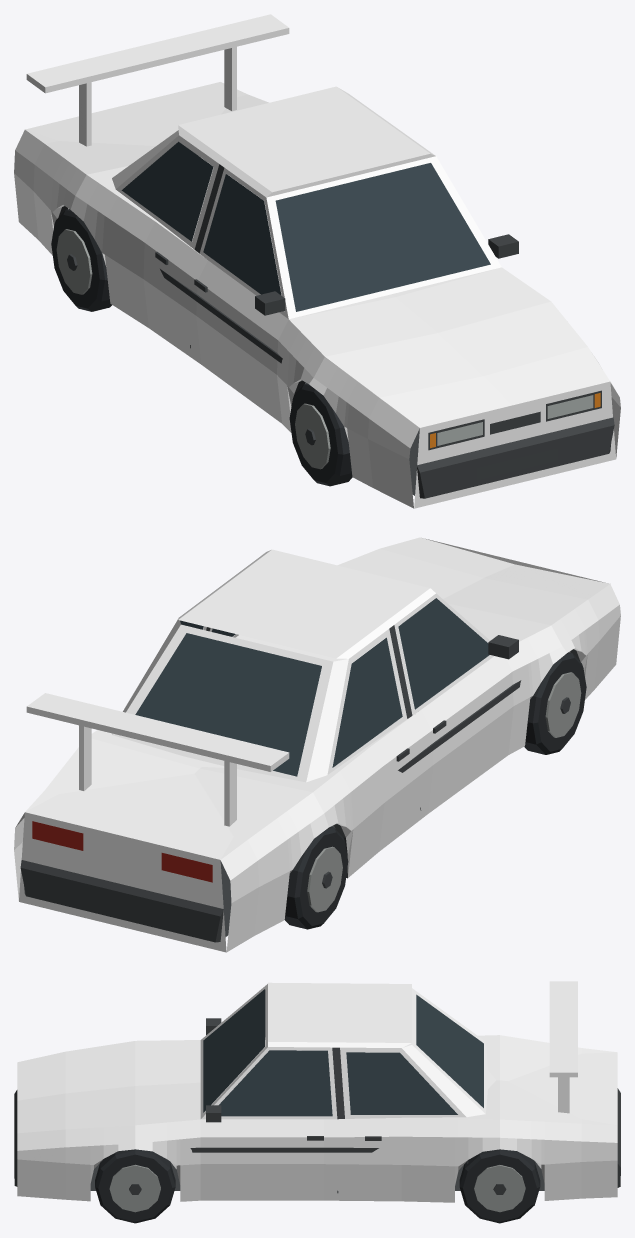
File: castellani_torrente_corrida.glb
3 renders of one model, top to bottom at view 1: azimuth 30°, elevation 25°; view 2: azimuth 150°, elevation 25°; view 3: azimuth 270°, elevation 25°, orthographic. The views are drawn at different scales.
Visible parts, largest first — view 1: castellani_torrente_corrida; view 2: castellani_torrente_corrida; view 3: castellani_torrente_corrida.
Part boxes in pixels (bbox=[...]): castellani_torrente_corrida: bbox=[14, 14, 620, 508]; castellani_torrente_corrida: bbox=[14, 537, 620, 952]; castellani_torrente_corrida: bbox=[14, 981, 620, 1223].
Bounding box in the file's own units: 1.77 × 1.42 × 4.71.
8 materials, 1 textured.
